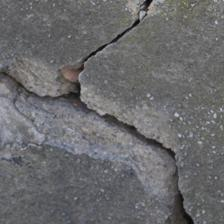Crack: (11, 74, 95, 150), (101, 10, 136, 136), (29, 22, 127, 59)
